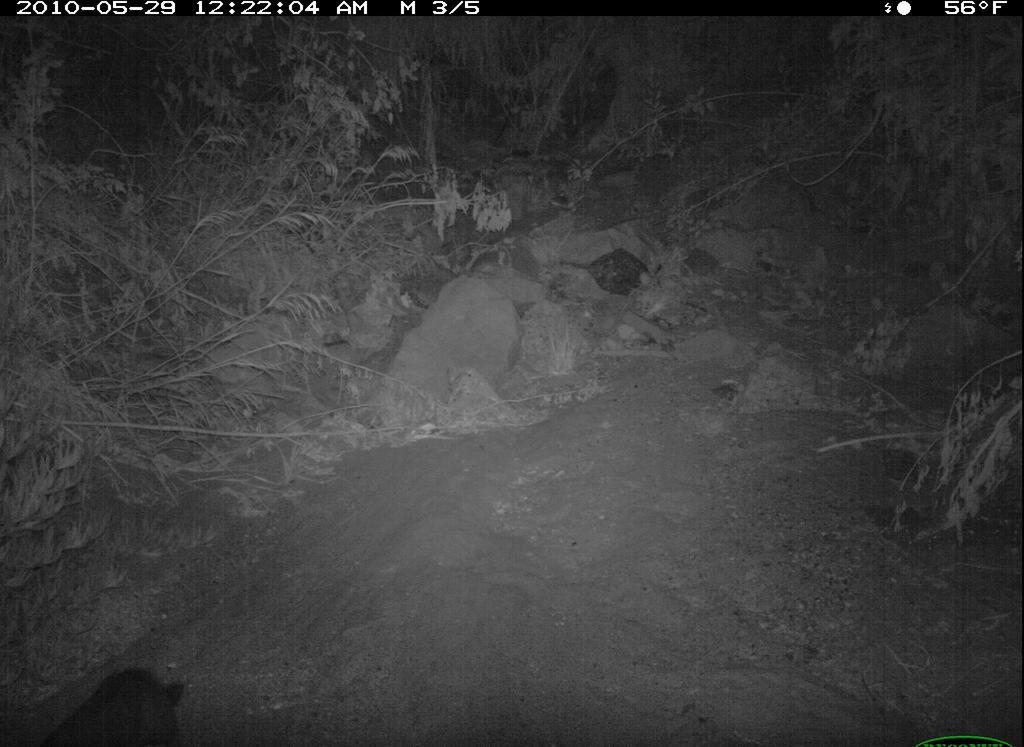cat: (22, 656, 195, 747)
